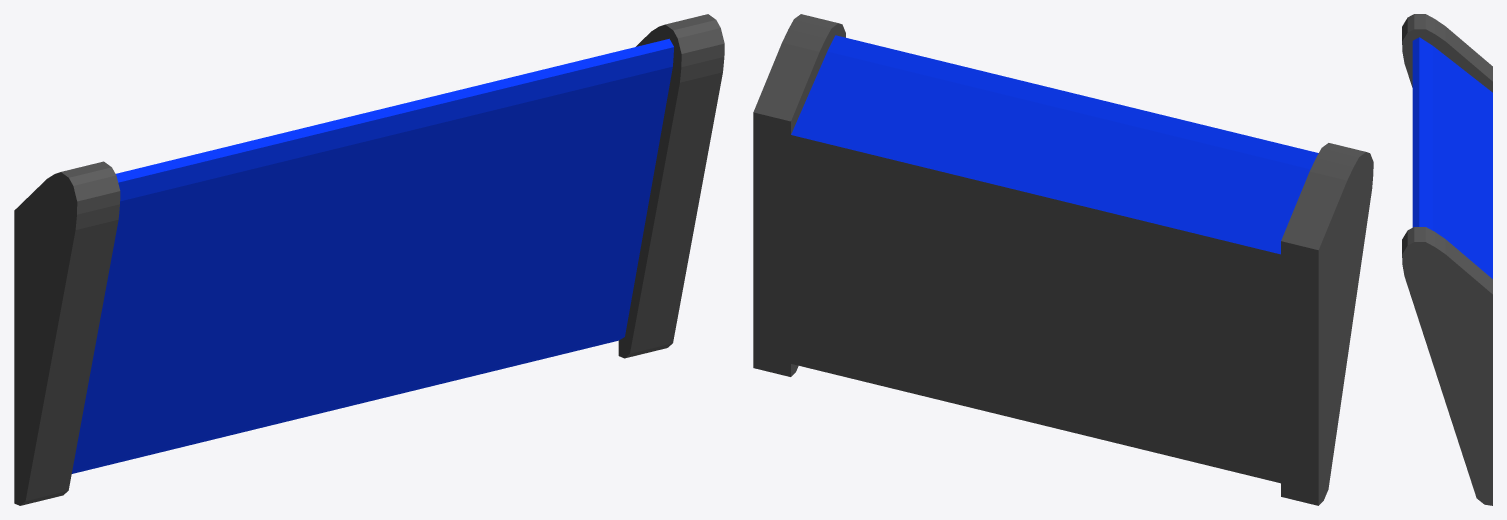
The model's file is Hold_Box.fbx.
The picture shows the model from 3 angles, left to right: view 1: azimuth 30°, elevation 25°; view 2: azimuth 150°, elevation 25°; view 3: azimuth 270°, elevation 25°; orthographic projection. The views are drawn at different scales.
Visible parts, largest first — view 1: Hold_Box; view 2: Hold_Box; view 3: Hold_Box.
Part boxes in pixels (left/top/right/bottom): Hold_Box: left=14, top=14, right=724, bottom=505; Hold_Box: left=753, top=14, right=1373, bottom=505; Hold_Box: left=1402, top=14, right=1492, bottom=505.
Size of the model in its own units: 4198 by 2265 by 707.
